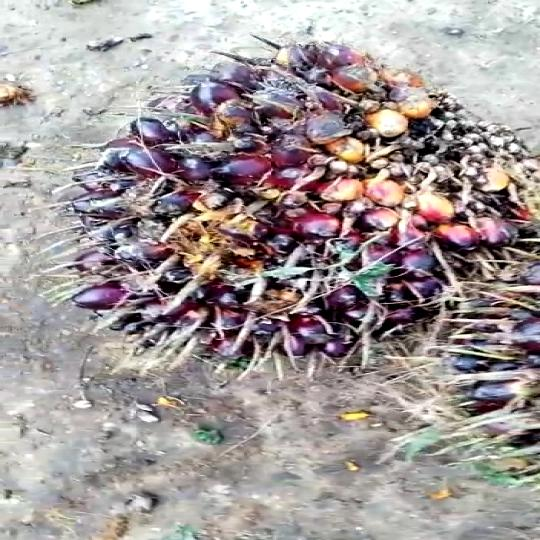kurang masak: (87, 46, 540, 366)
